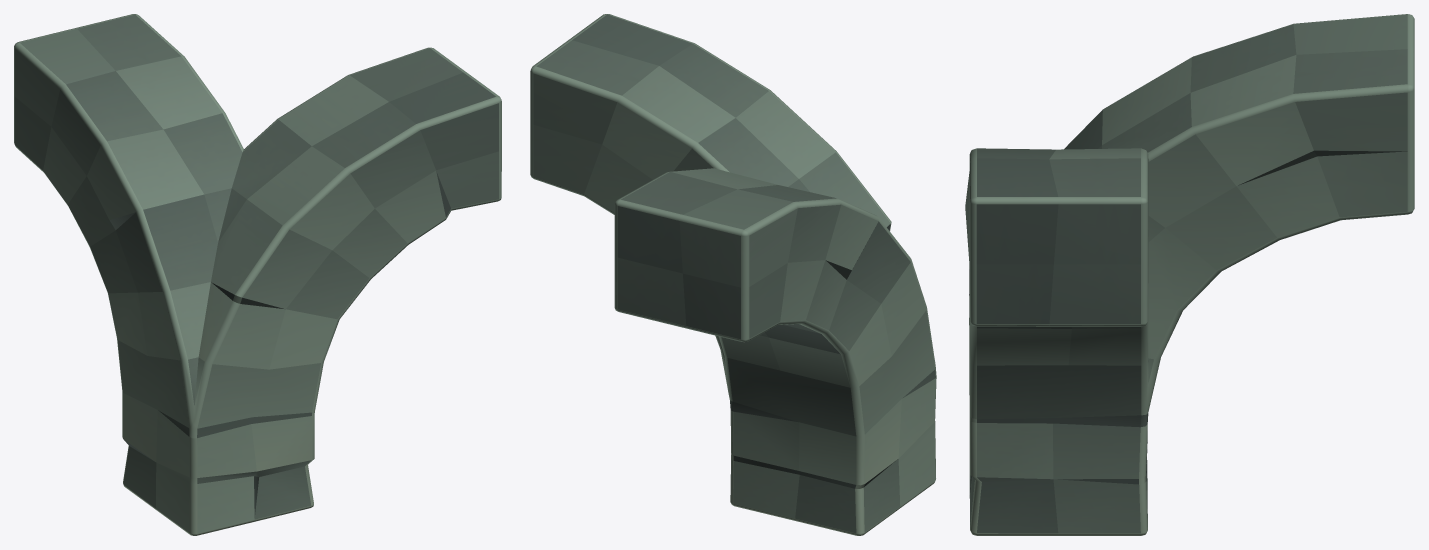
The model's file is stone_arch3.fbx.
3 renders of one model, left to right at view 1: azimuth 30°, elevation 25°; view 2: azimuth 150°, elevation 25°; view 3: azimuth 270°, elevation 25°, orthographic. The views are drawn at different scales.
Parts seen in each view (by area): view 1: stone_arch3; view 2: stone_arch3; view 3: stone_arch3.
Boxes of the visible parts, x1,y1,x2,y2 form: stone_arch3: (14,14,501,535); stone_arch3: (530,14,936,535); stone_arch3: (965,14,1414,535).
Bounding box in the file's own units: 251 × 280 × 253.
Materials: 1 (1 with a texture image).
